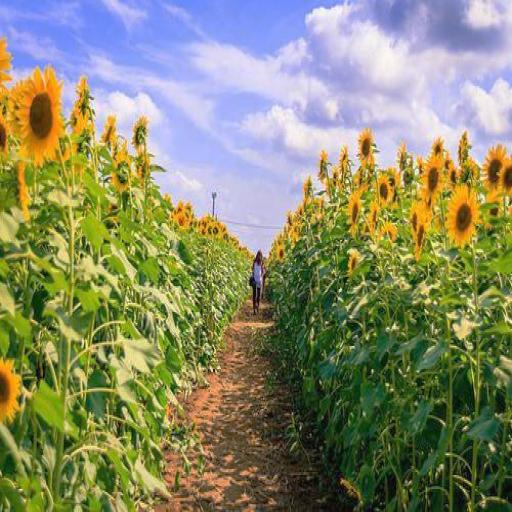sunflower: (10, 68, 62, 163), (446, 183, 480, 244), (418, 157, 445, 206), (484, 143, 507, 198), (345, 186, 362, 231), (497, 158, 512, 198), (375, 174, 392, 209), (356, 131, 374, 163), (314, 149, 329, 183)
